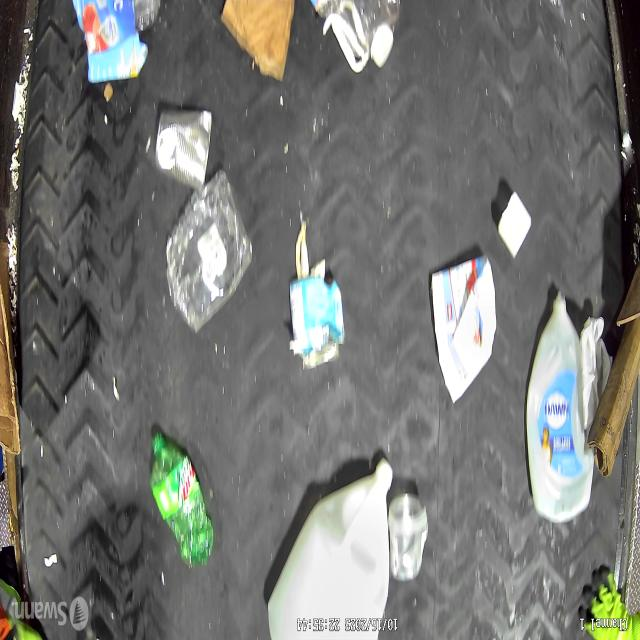can: (152, 105, 210, 192)
milk_jug: (265, 464, 394, 640)
non_white_jug: (525, 292, 591, 522)
plastic_bottle: (165, 168, 253, 336), (150, 430, 214, 570)
